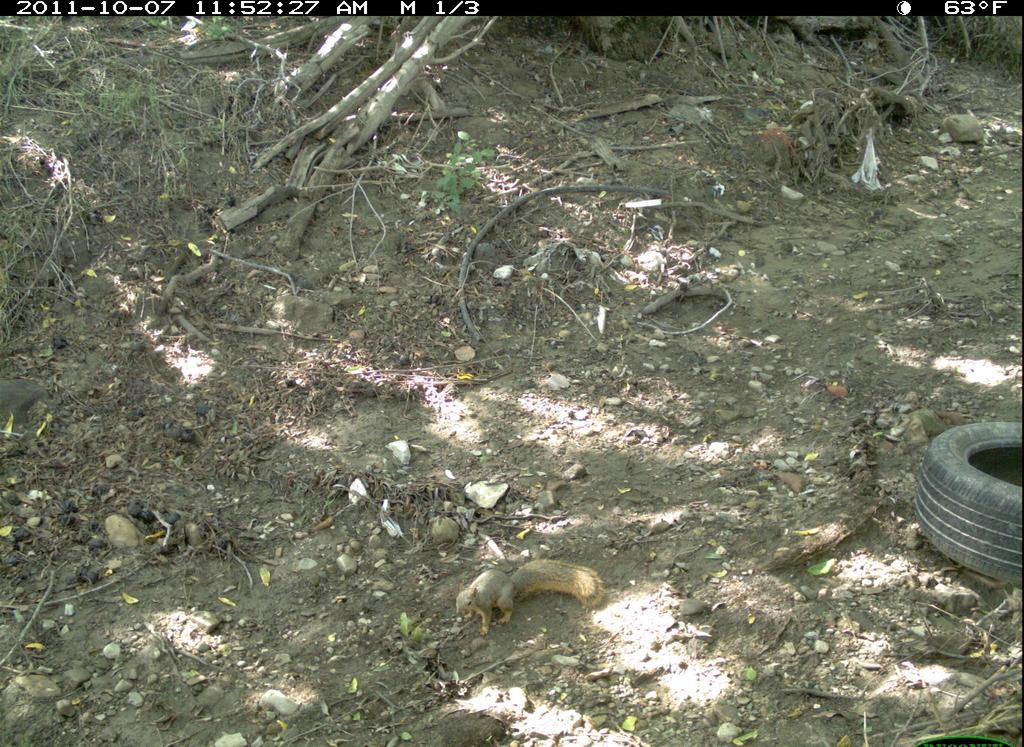squirrel: (448, 550, 613, 646)
